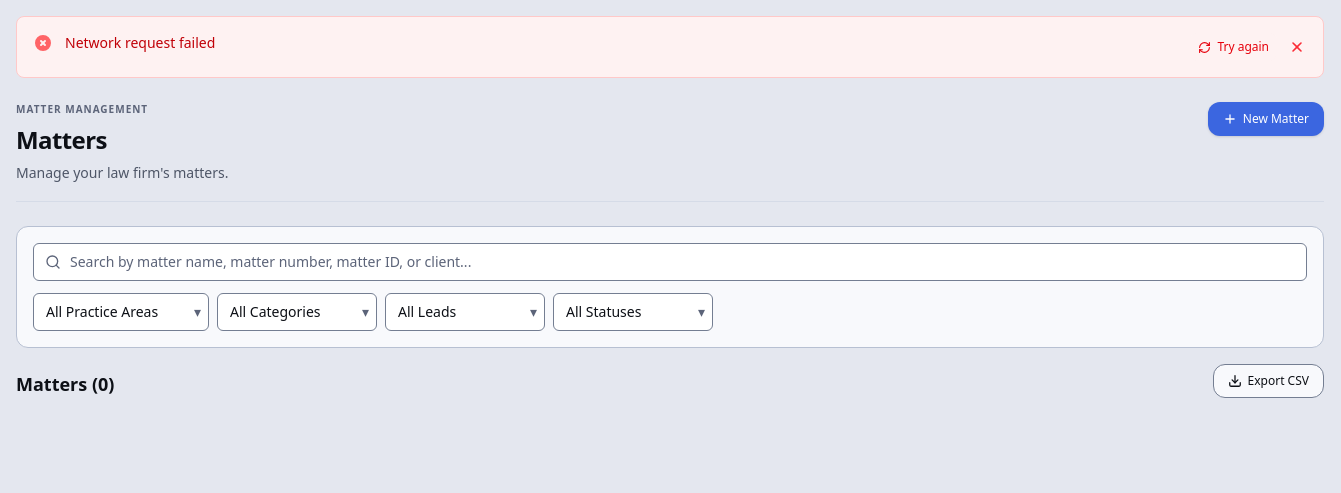
Scenario: MattersGrid CSV export › says so when the page cap cuts the export short
Click the button "Export CSV": point(1268, 381) 1212,364 -> 1324,398
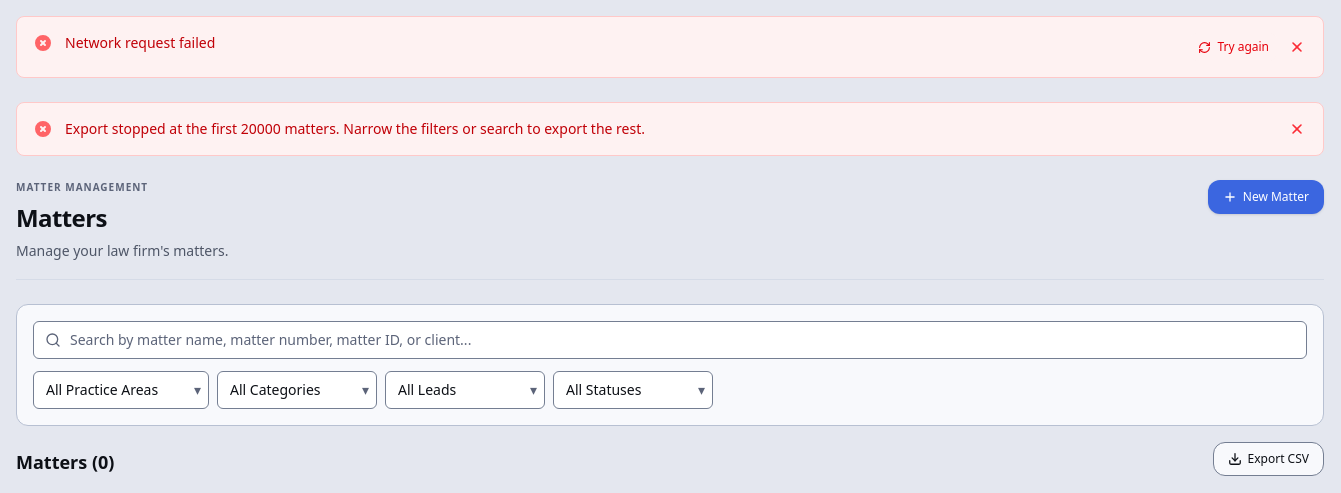
Expected: the text "Export stopped at the first 20000 matters. Narrow the filters or search to export the rest." is shown, 65,119 -> 645,138
